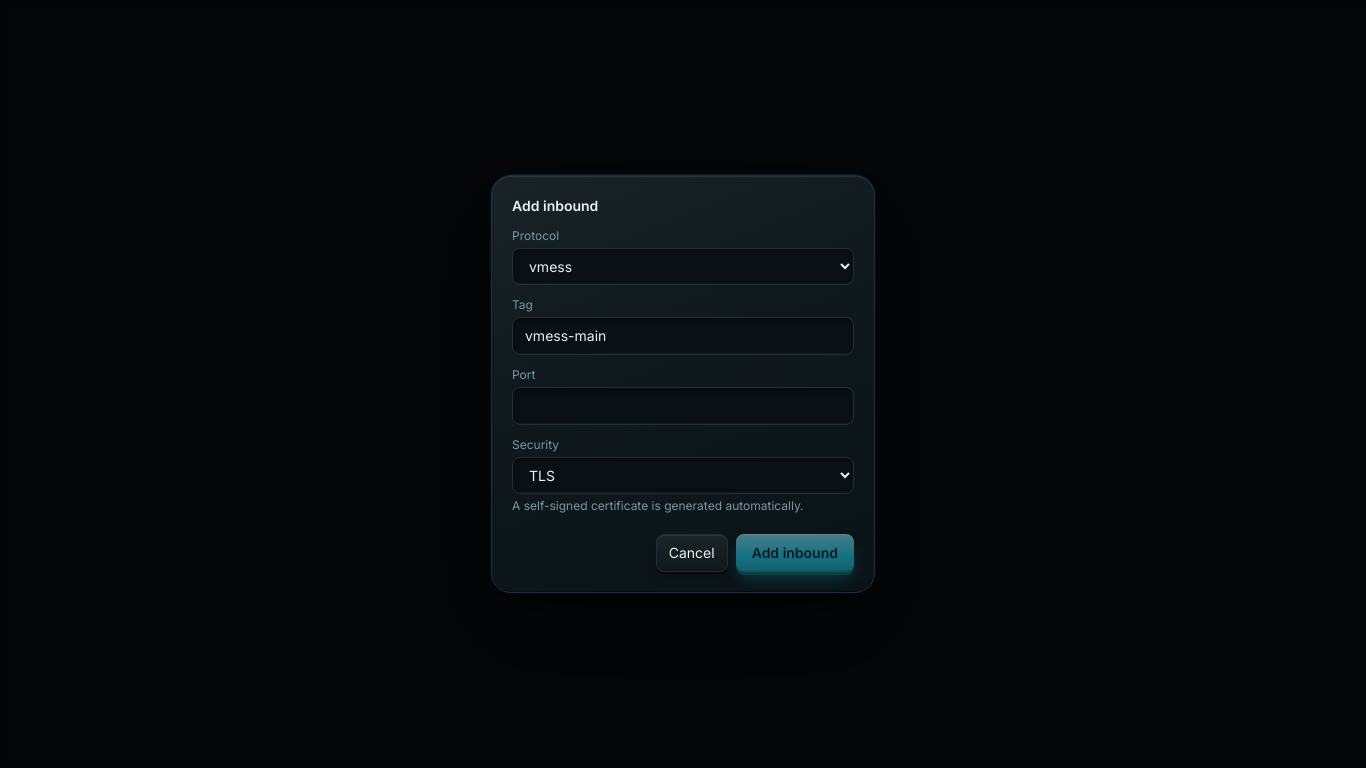
Test: QuickAddInboundModal › shows the server's error and keeps the form open on failure
Type "20300" into the number field labelled "Port".
click(683, 406); type("20300")  # box [512,387,854,425]
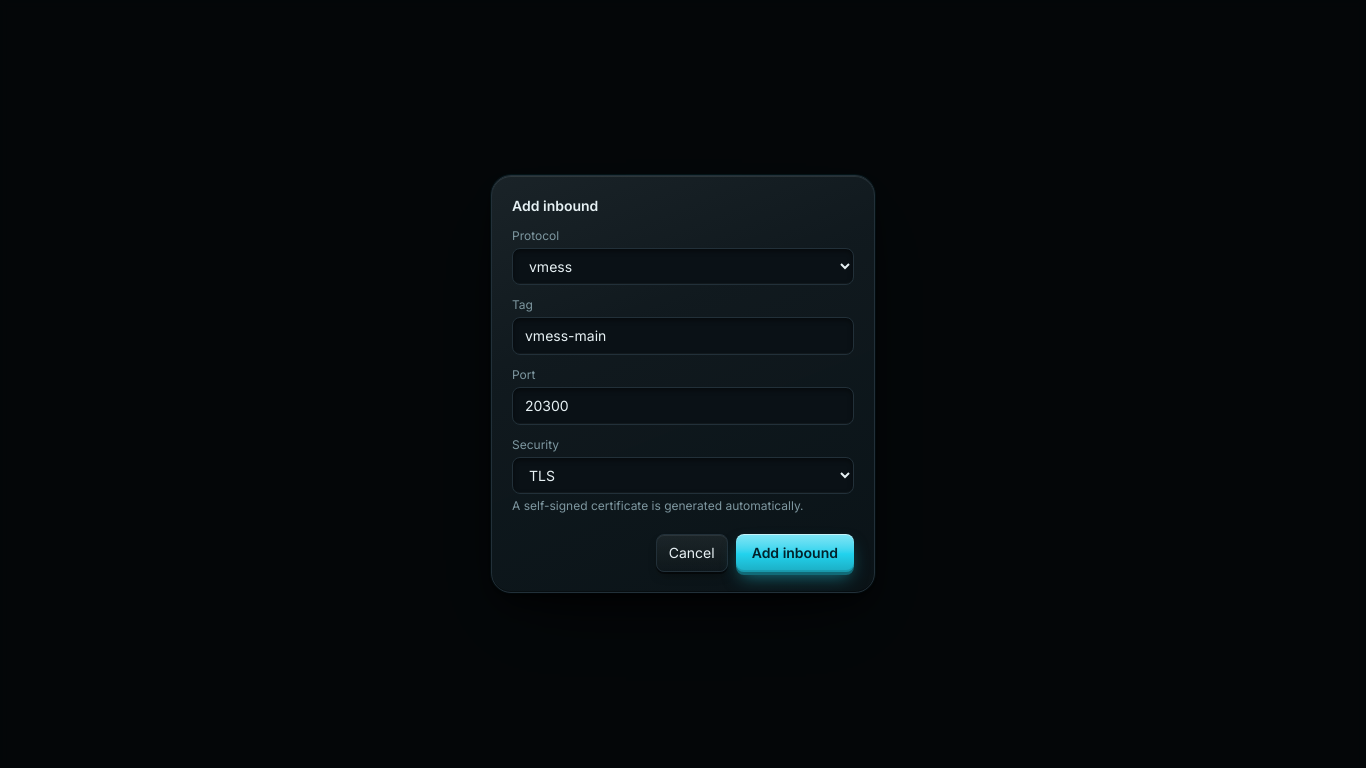
Click the button "Add inbound".
click(795, 553)  # box [736,534,854,572]
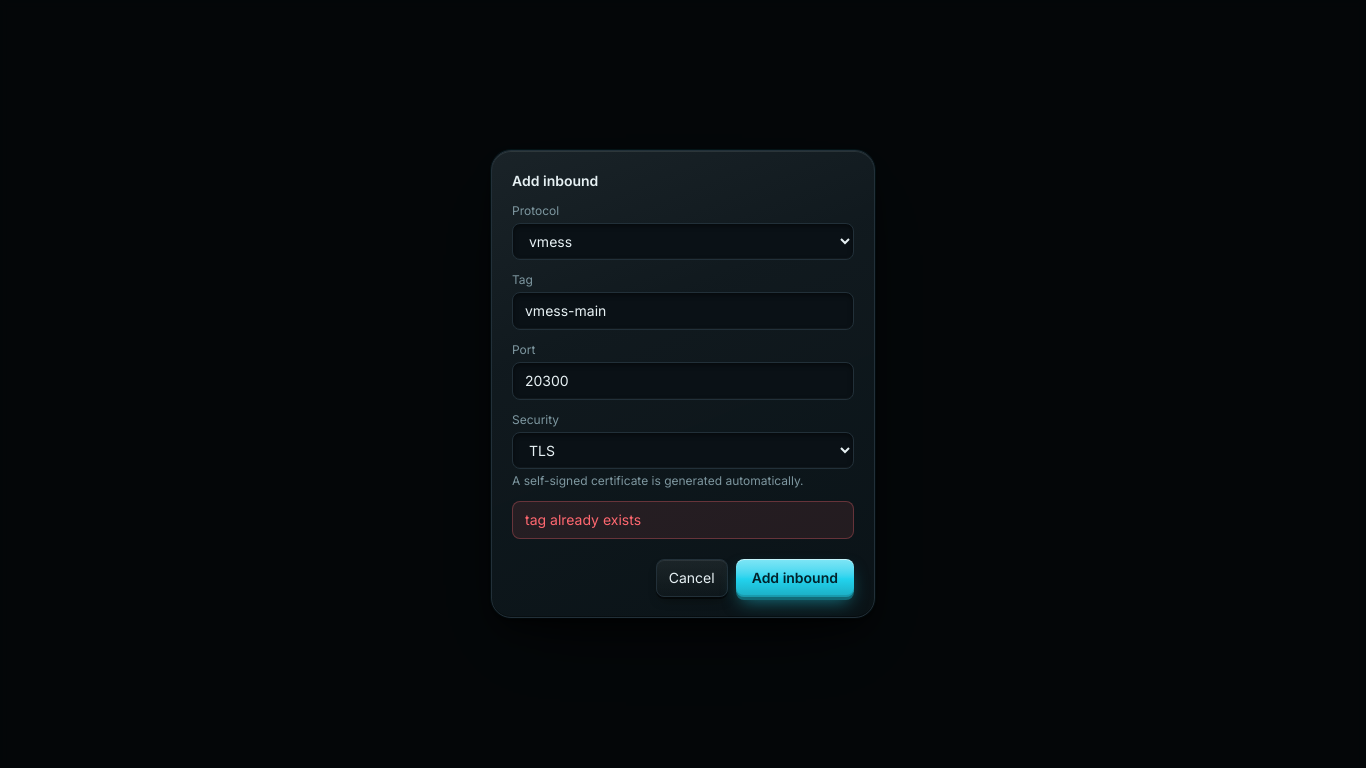
Expected: the field labelled "Tag" is shown, [512,292,854,330]
Result: the text "tag already exists" is shown at [512,501,854,539]
